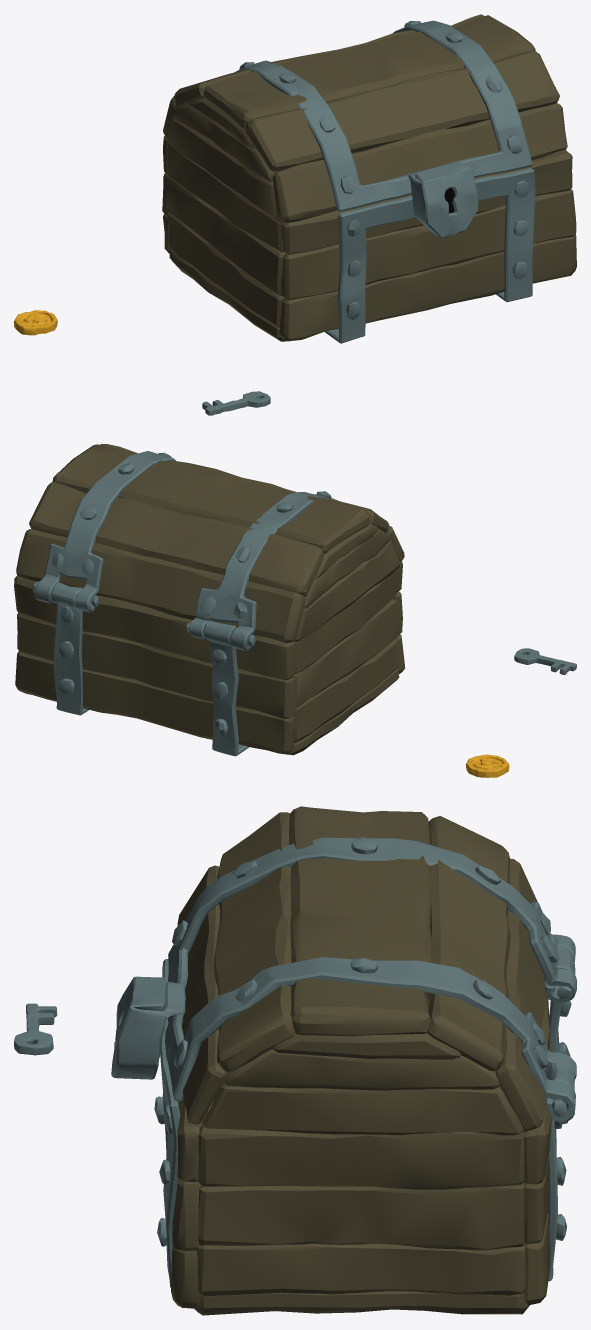
The model's file is chest.glb.
3 renders of one model, top to bottom at view 1: azimuth 30°, elevation 25°; view 2: azimuth 150°, elevation 25°; view 3: azimuth 270°, elevation 25°, orthographic. The views are drawn at different scales.
Parts seen in each view (by area): view 1: chest-top, chest-bottom, chest-top-metal, chest-bottom-metal, chest-top-rivets, chest-bottom-rivets, ui-coin, key; view 2: chest-top, chest-bottom, chest-top-metal, chest-bottom-metal, chest-top-rivets, chest-bottom-rivets, ui-coin, key; view 3: chest-top, chest-bottom, chest-top-metal, chest-bottom-metal, chest-top-rivets, chest-bottom-rivets, key.
Boxes of the visible parts, x1,y1,x2,y2 form: chest-top: [163, 14, 567, 222]; chest-bottom: [162, 136, 576, 341]; chest-top-metal: [235, 20, 532, 238]; chest-bottom-metal: [324, 168, 535, 343]; chest-top-rivets: [239, 21, 522, 193]; chest-bottom-rivets: [346, 180, 529, 319]; ui-coin: [14, 310, 57, 335]; key: [202, 391, 270, 415]; chest-top: [16, 444, 404, 642]; chest-bottom: [14, 561, 405, 755]; chest-top-metal: [34, 451, 337, 650]; chest-bottom-metal: [51, 582, 249, 756]; chest-top-rivets: [52, 452, 331, 618]; chest-bottom-rivets: [32, 581, 255, 735]; ui-coin: [465, 754, 509, 777]; key: [514, 648, 576, 674]; chest-top: [177, 806, 546, 1135]; chest-bottom: [171, 980, 551, 1315]; chest-top-metal: [111, 837, 576, 1122]; chest-bottom-metal: [159, 945, 575, 1287]; chest-top-rivets: [172, 837, 558, 1069]; chest-bottom-rivets: [154, 986, 571, 1246]; key: [14, 1003, 57, 1055].
Size of the model in its own units: 1.69 by 0.7466 by 1.16.
